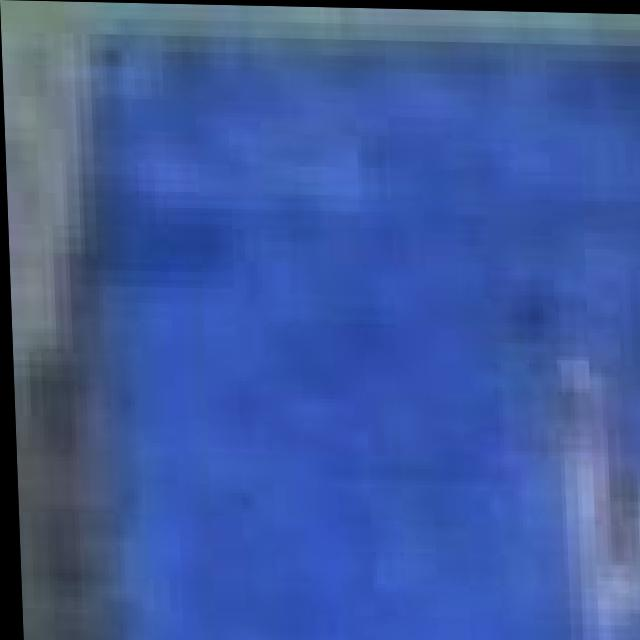potentiometer: (40, 17, 640, 640)
